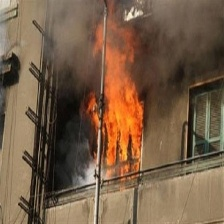fire: (85, 23, 146, 178)
smoke: (144, 1, 224, 88), (32, 2, 106, 87)
